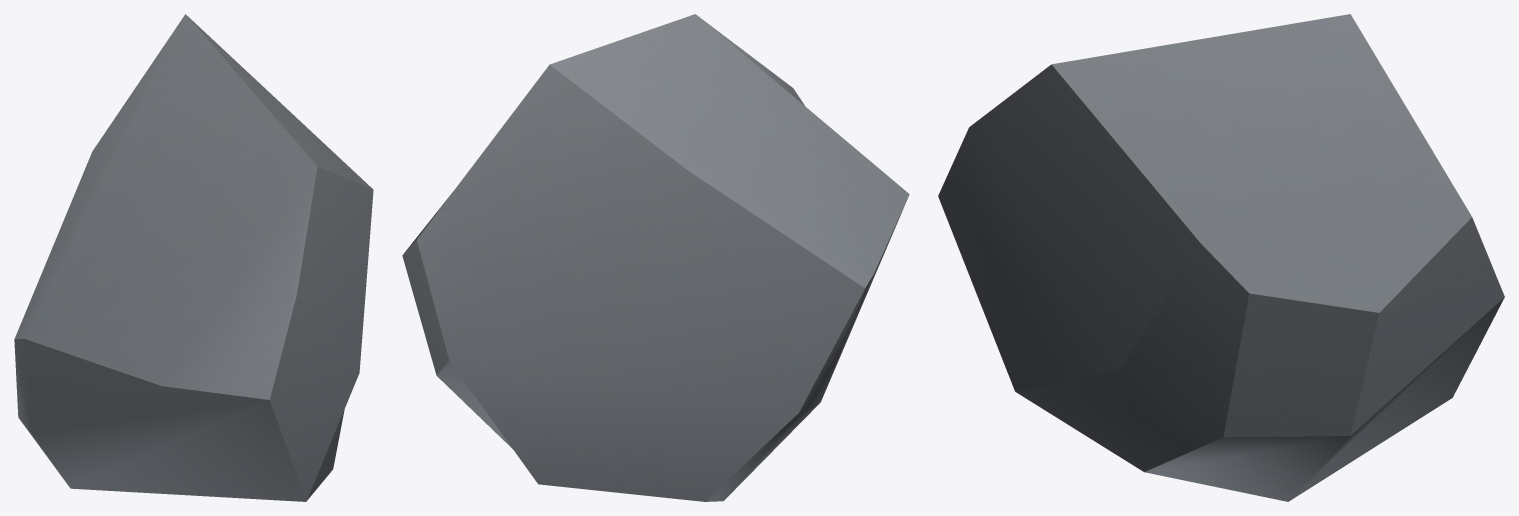
File: rocaRedonda2.fbx
The picture shows the model from 3 angles, left to right: view 1: azimuth 30°, elevation 25°; view 2: azimuth 150°, elevation 25°; view 3: azimuth 270°, elevation 25°; orthographic projection. The views are drawn at different scales.
Parts seen in each view (by area): view 1: rocaRedonda2; view 2: rocaRedonda2; view 3: rocaRedonda2.
Boxes of the visible parts, <box> form: rocaRedonda2: <box>14,14,373,501</box>; rocaRedonda2: <box>402,14,909,501</box>; rocaRedonda2: <box>938,14,1504,501</box>.
Bounding box in the file's own units: 235 × 248 × 279.
